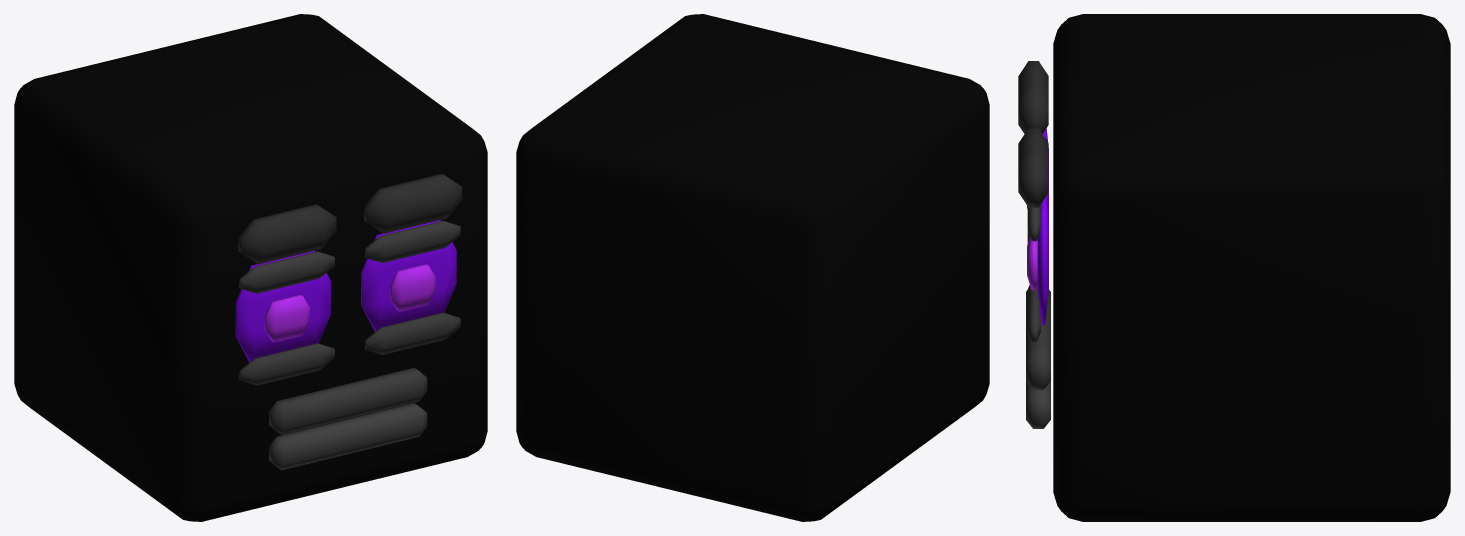
The model's file is robot_head4.glb.
3 renders of one model, left to right at view 1: azimuth 30°, elevation 25°; view 2: azimuth 150°, elevation 25°; view 3: azimuth 270°, elevation 25°, orthographic. The views are drawn at different scales.
Visible parts, largest first — view 1: robot_head; view 2: robot_head; view 3: robot_head.
Boxes of the visible parts, bbox=[...] form: robot_head: bbox=[14, 14, 487, 521]; robot_head: bbox=[516, 14, 989, 521]; robot_head: bbox=[1018, 14, 1450, 521].
Size of the model in its own units: 2 by 2 by 2.18.
